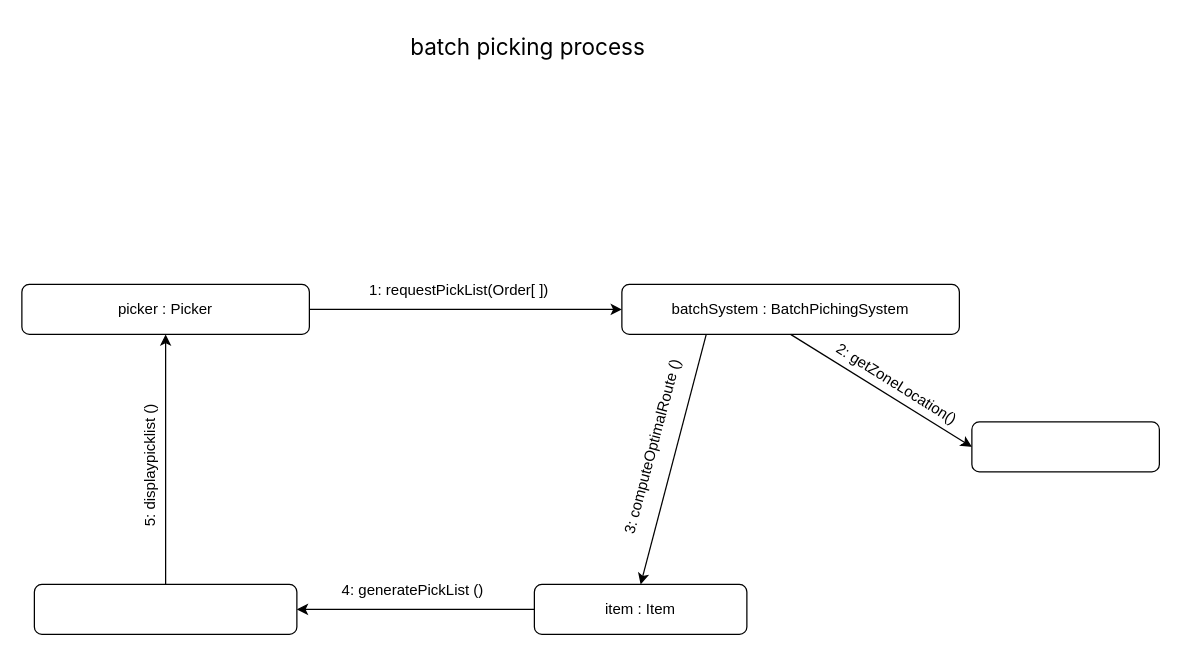
Some shapes in this 1181 by 656 pixel diagram are drawn without their labels. Each missing label, with the box of its shape:
pickList : PickList: (33, 583, 297, 634)
zone : Zone: (971, 421, 1159, 472)
